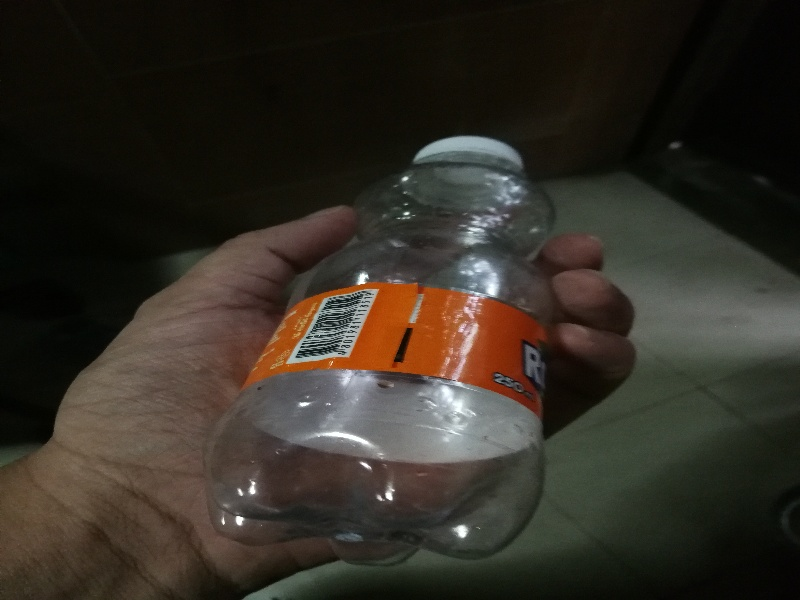PET #1: (197, 113, 565, 566)
